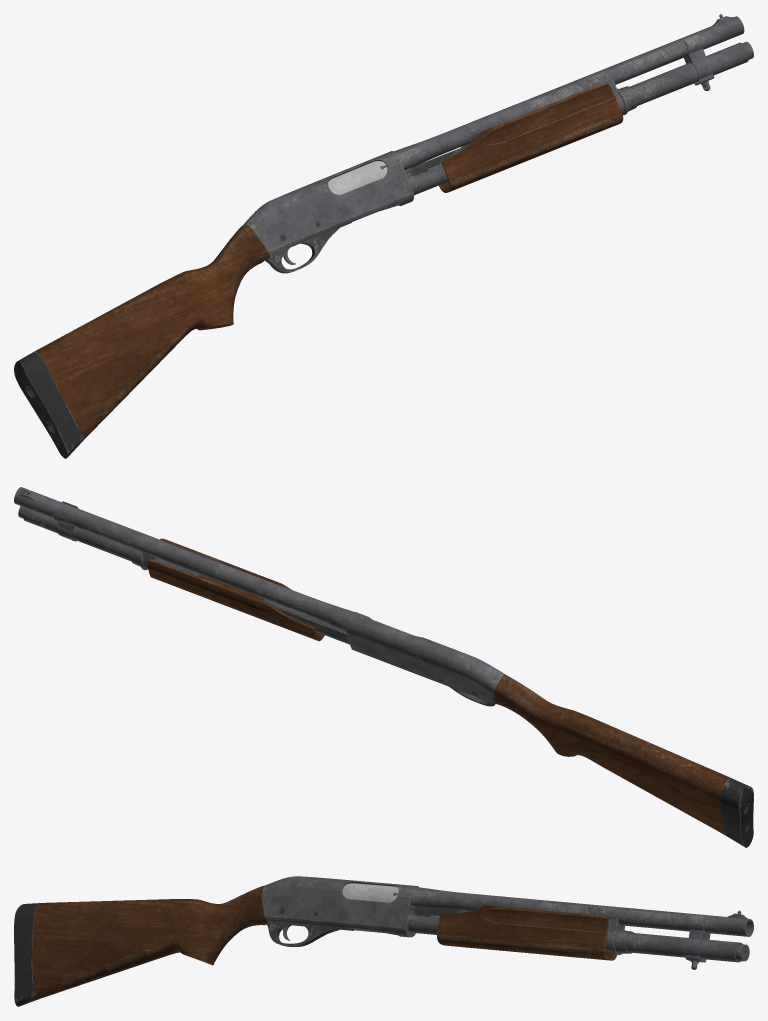
The model's file is shotgun (1).glb.
3 views of the same model, one above another, from view 1: azimuth 30°, elevation 25°; view 2: azimuth 150°, elevation 25°; view 3: azimuth 330°, elevation 25° (orthographic). The views are drawn at different scales.
Parts seen in each view (by area): view 1: StockWood_Lp__0, Barrel_Lp, Grip_Lp__0, Body_Lp__0, StockPlastic_Lp__0, EjectorTop_Lp, BarrelHolder_Lp, Triggerholder_Lp__0; view 2: StockWood_Lp__0, Barrel_Lp, Body_Lp__0, Grip_Lp__0, StockPlastic_Lp__0; view 3: StockWood_Lp__0, Barrel_Lp, Grip_Lp__0, Body_Lp__0, StockPlastic_Lp__0, EjectorTop_Lp, Triggerholder_Lp__0, BarrelHolder_Lp, BarrelPump_Lp__0.
Part boxes in pixels (x1=…): StockWood_Lp__0: x1=34, y1=224, x2=269, y2=439; Barrel_Lp: x1=394, y1=14, x2=753, y2=195; Grip_Lp__0: x1=439, y1=83, x2=623, y2=192; Body_Lp__0: x1=244, y1=151, x2=413, y2=254; StockPlastic_Lp__0: x1=14, y1=351, x2=83, y2=458; EjectorTop_Lp: x1=328, y1=161, x2=387, y2=194; BarrelHolder_Lp: x1=683, y1=34, x2=714, y2=90; Triggerholder_Lp__0: x1=265, y1=222, x2=351, y2=273; StockWood_Lp__0: x1=492, y1=674, x2=731, y2=834; Barrel_Lp: x1=14, y1=487, x2=353, y2=644; Body_Lp__0: x1=346, y1=612, x2=504, y2=703; Grip_Lp__0: x1=147, y1=538, x2=324, y2=641; StockPlastic_Lp__0: x1=719, y1=778, x2=753, y2=847; StockWood_Lp__0: x1=32, y1=885, x2=268, y2=998; Barrel_Lp: x1=407, y1=887, x2=753, y2=962; Grip_Lp__0: x1=437, y1=905, x2=617, y2=960; Body_Lp__0: x1=262, y1=876, x2=418, y2=937; StockPlastic_Lp__0: x1=14, y1=903, x2=40, y2=1006; EjectorTop_Lp: x1=342, y1=883, x2=398, y2=902; Triggerholder_Lp__0: x1=266, y1=920, x2=353, y2=946; BarrelHolder_Lp: x1=685, y1=915, x2=710, y2=969; BarrelPump_Lp__0: x1=408, y1=905, x2=468, y2=917.
Bounding box in the file's own units: 2.99 × 0.9062 × 0.3748.
Materials: 1 (1 with a texture image).
